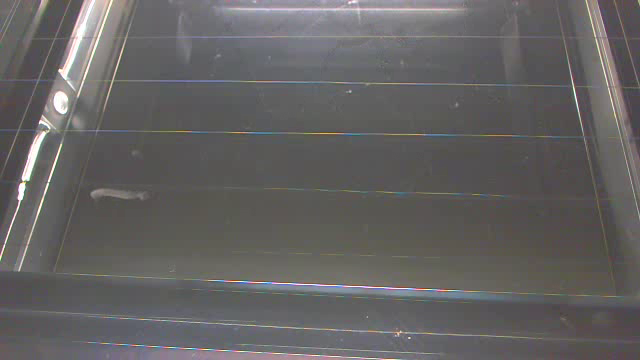alpha: (89, 186, 155, 200)
